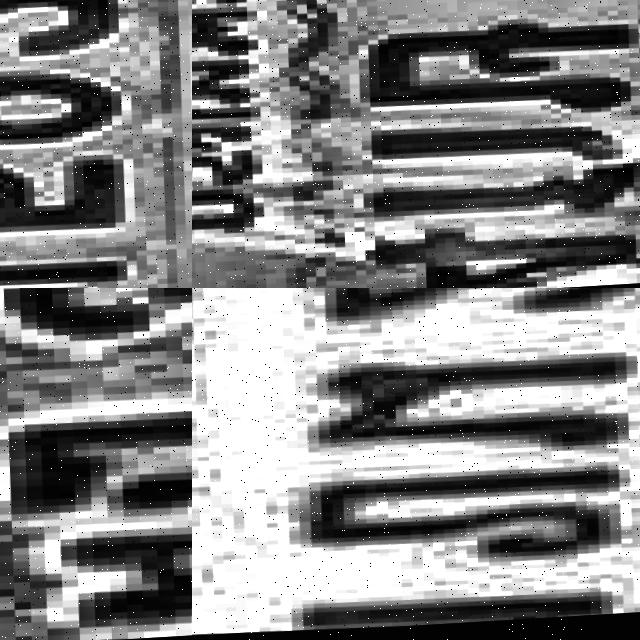license-plate: (192, 288, 640, 640), (192, 0, 640, 288), (0, 288, 192, 640), (0, 0, 192, 288)
